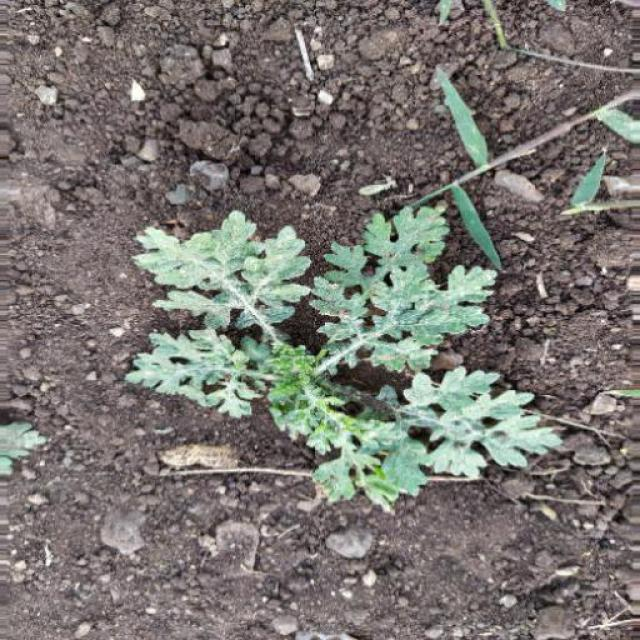weed: (134, 218, 564, 507)
